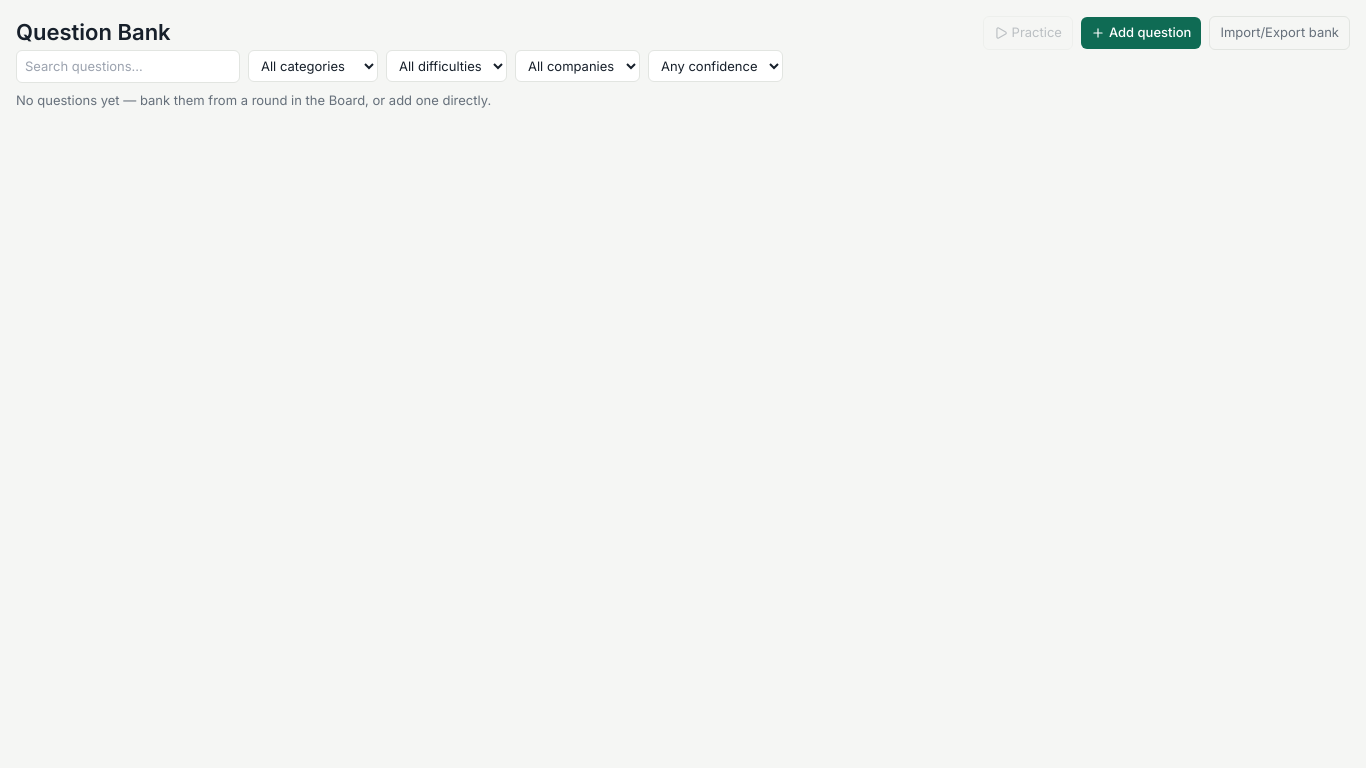
Scenario: QuestionsPage › does not create a question with blank text
Step 1. Click the button "Add question" → {"x": 1141, "y": 33}, box [1081, 17, 1201, 48]
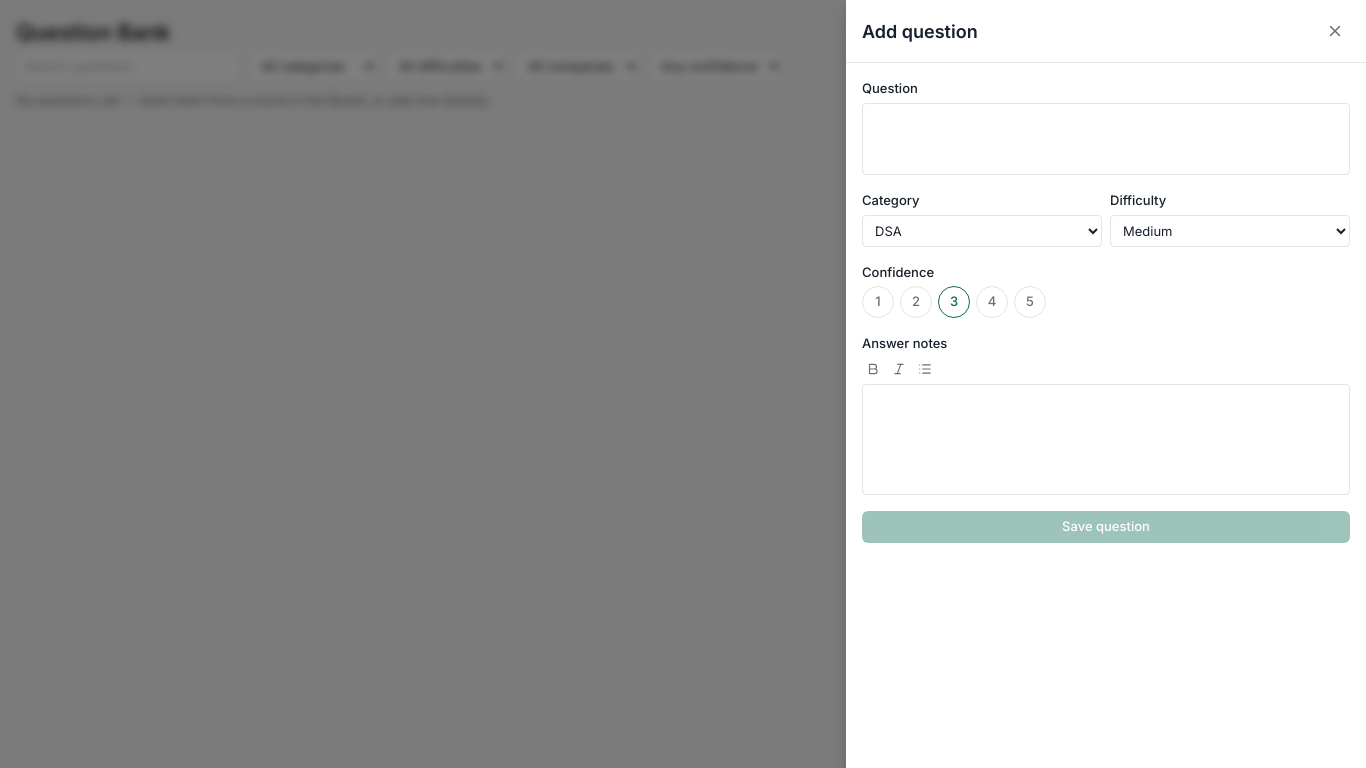
Now the button "Save question" is disabled, box [862, 511, 1350, 542]
